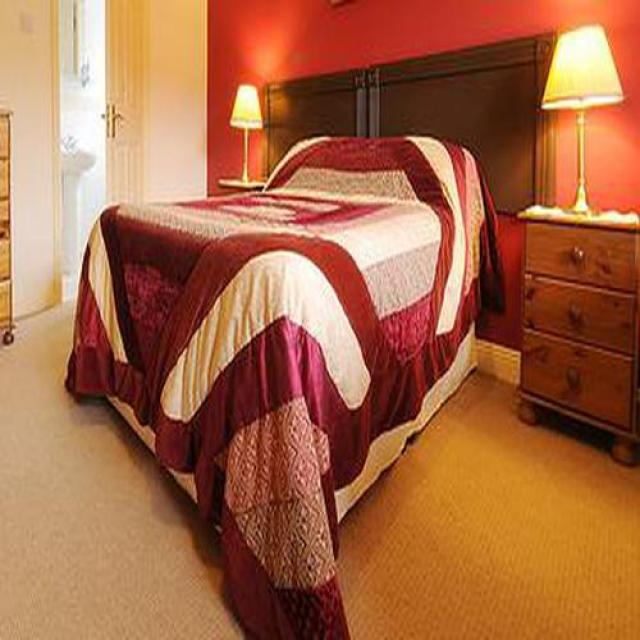bed: (64, 136, 497, 640)
table: (522, 223, 640, 466)
